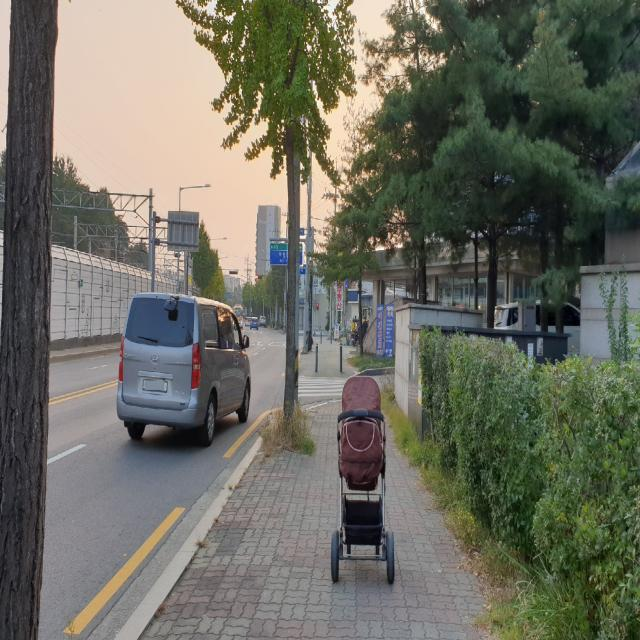횡단보도: (298, 378, 347, 398)
